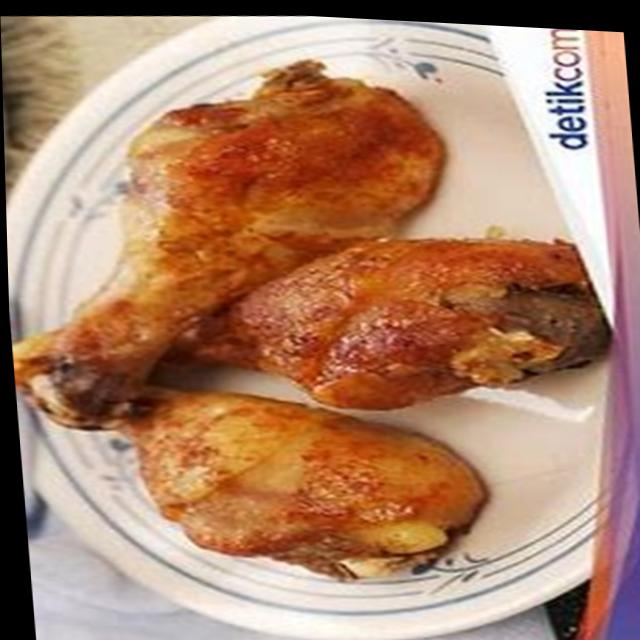CHICKEN FRY: (16, 74, 594, 581)
